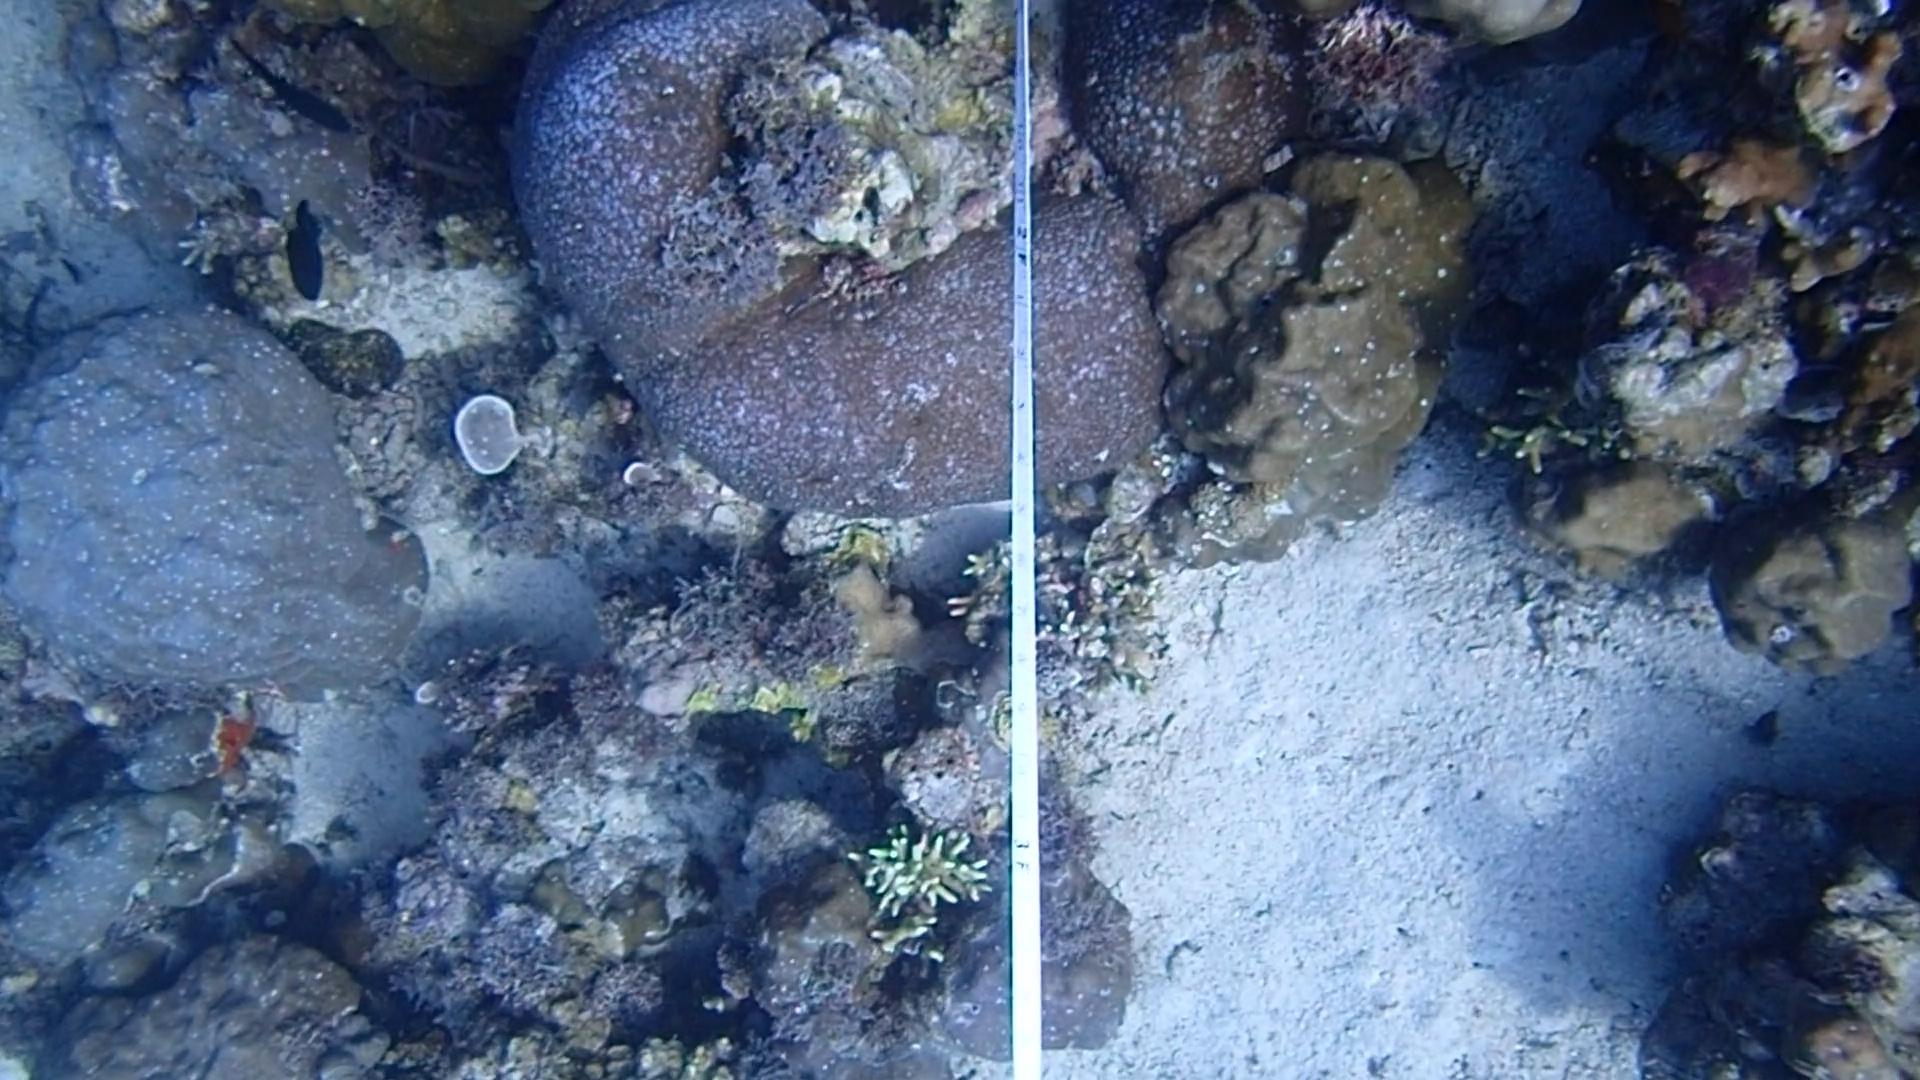Dark Fish: (272, 199, 339, 313)
